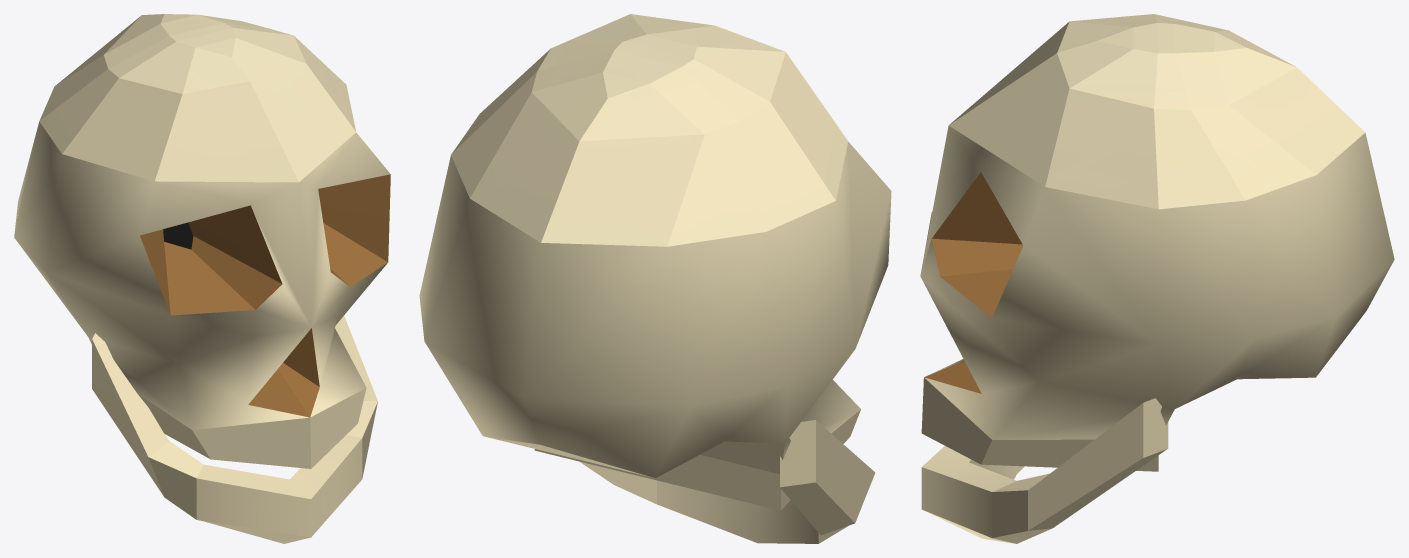
Rendered from skull.FBX.
3 renders of one model, left to right at view 1: azimuth 30°, elevation 25°; view 2: azimuth 150°, elevation 25°; view 3: azimuth 270°, elevation 25°, orthographic. The views are drawn at different scales.
Parts seen in each view (by area): view 1: Sphere017; view 2: Sphere017; view 3: Sphere017.
Part boxes in pixels (x1,y1,x2,y2): Sphere017: (14,14,390,543); Sphere017: (419,14,891,543); Sphere017: (920,14,1394,543).
Bounding box in the file's own units: 71.7 × 84.1 × 97.94.
